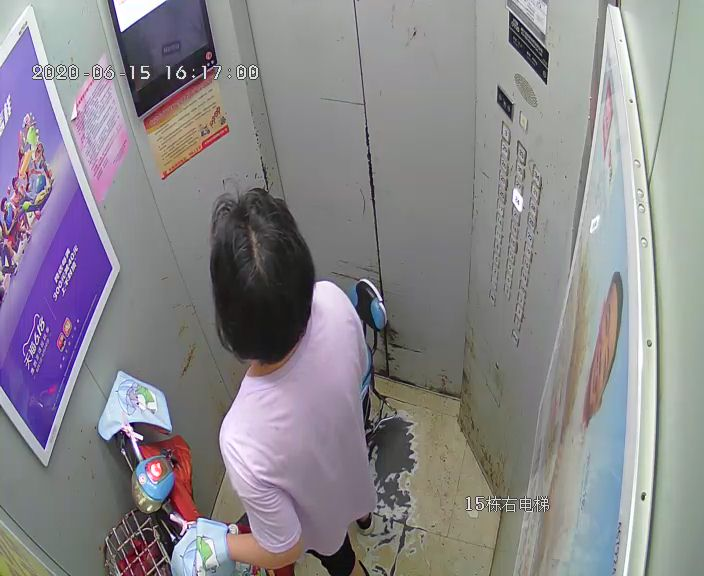Electric-bicycle: (103, 280, 385, 576)
